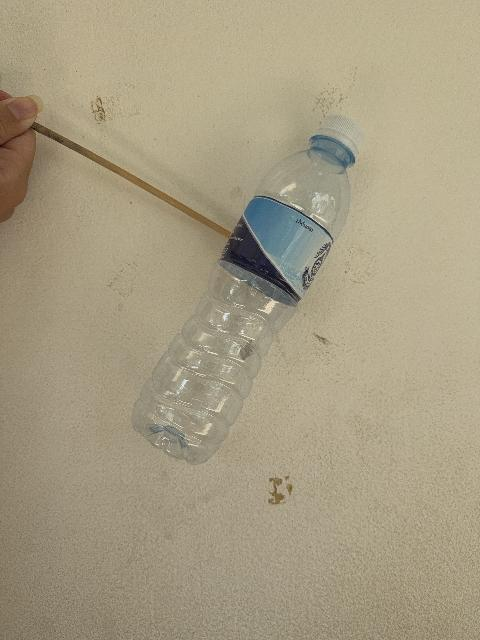bottle: (132, 116, 363, 463)
